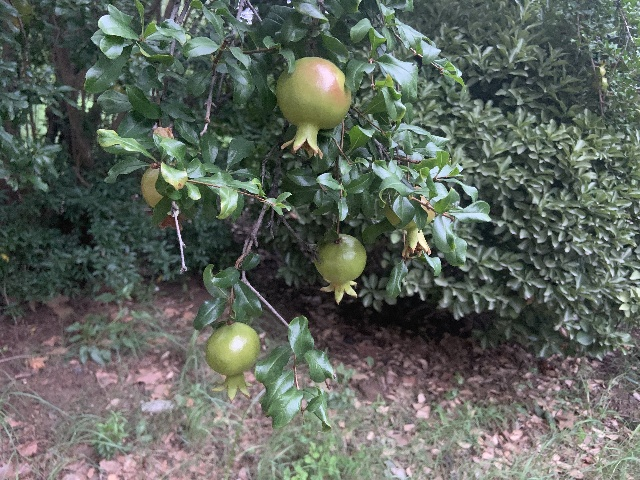mid-growth: (275, 56, 351, 157), (205, 322, 260, 400), (314, 233, 366, 304), (385, 185, 435, 258)
